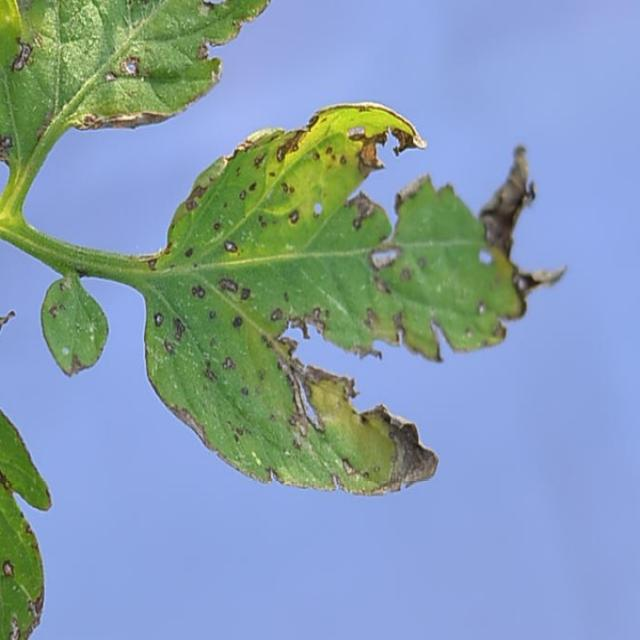infected: (150, 102, 535, 498), (0, 12, 248, 135), (0, 456, 47, 640)
